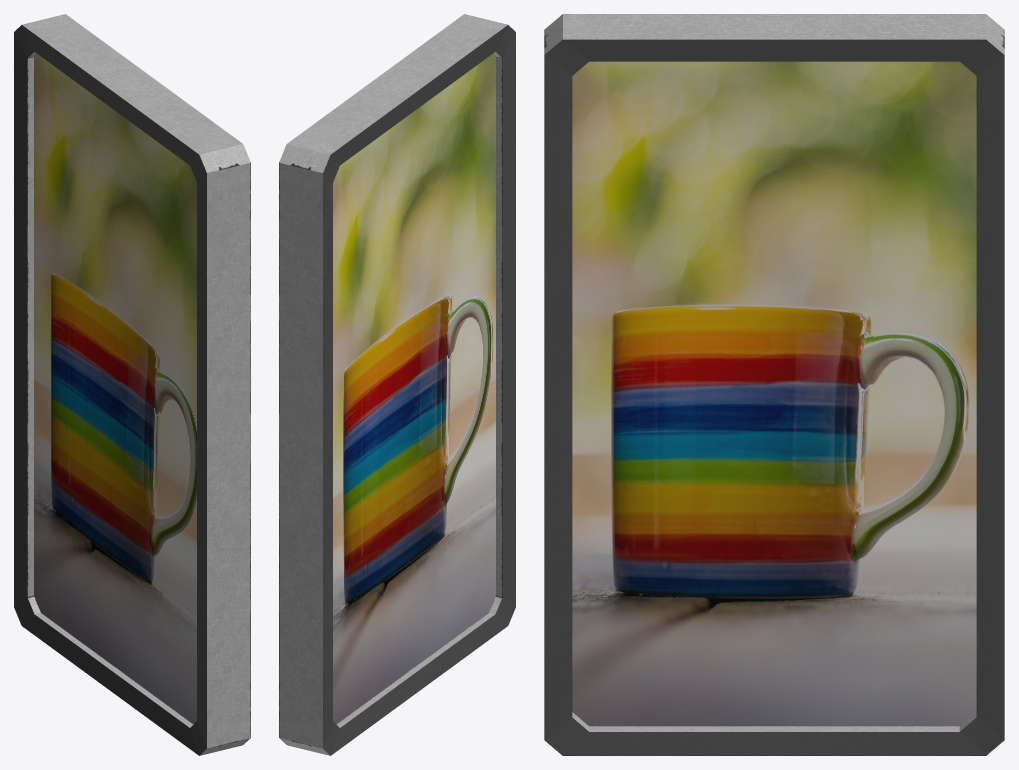
The model's file is Panel04a.FBX.
The picture shows the model from 3 angles, left to right: view 1: azimuth 30°, elevation 25°; view 2: azimuth 150°, elevation 25°; view 3: azimuth 270°, elevation 25°; orthographic projection. The views are drawn at different scales.
Parts seen in each view (by area): view 1: Panel04a; view 2: Panel04a; view 3: Panel04a.
Boxes of the visible parts, x1,y1,x2,y2 form: Panel04a: (14, 14, 250, 755); Panel04a: (279, 14, 515, 755); Panel04a: (544, 14, 1004, 755).
Size of the model in its own units: 138 by 1803 by 1049.
